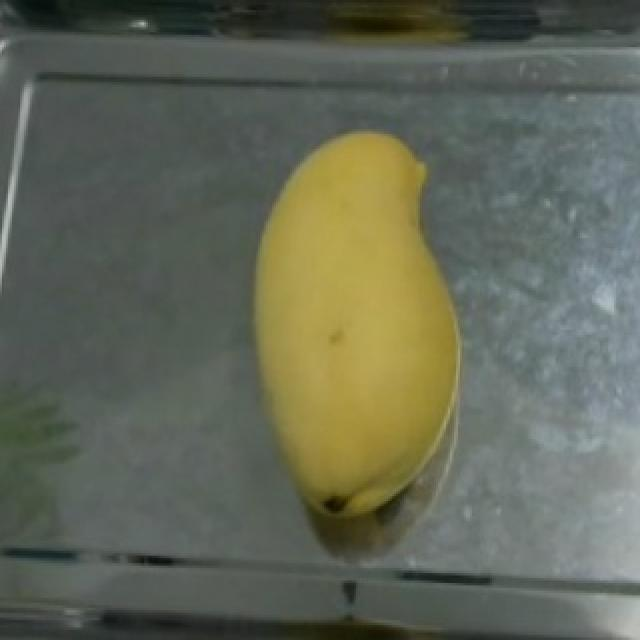fruit: (228, 114, 484, 519)
